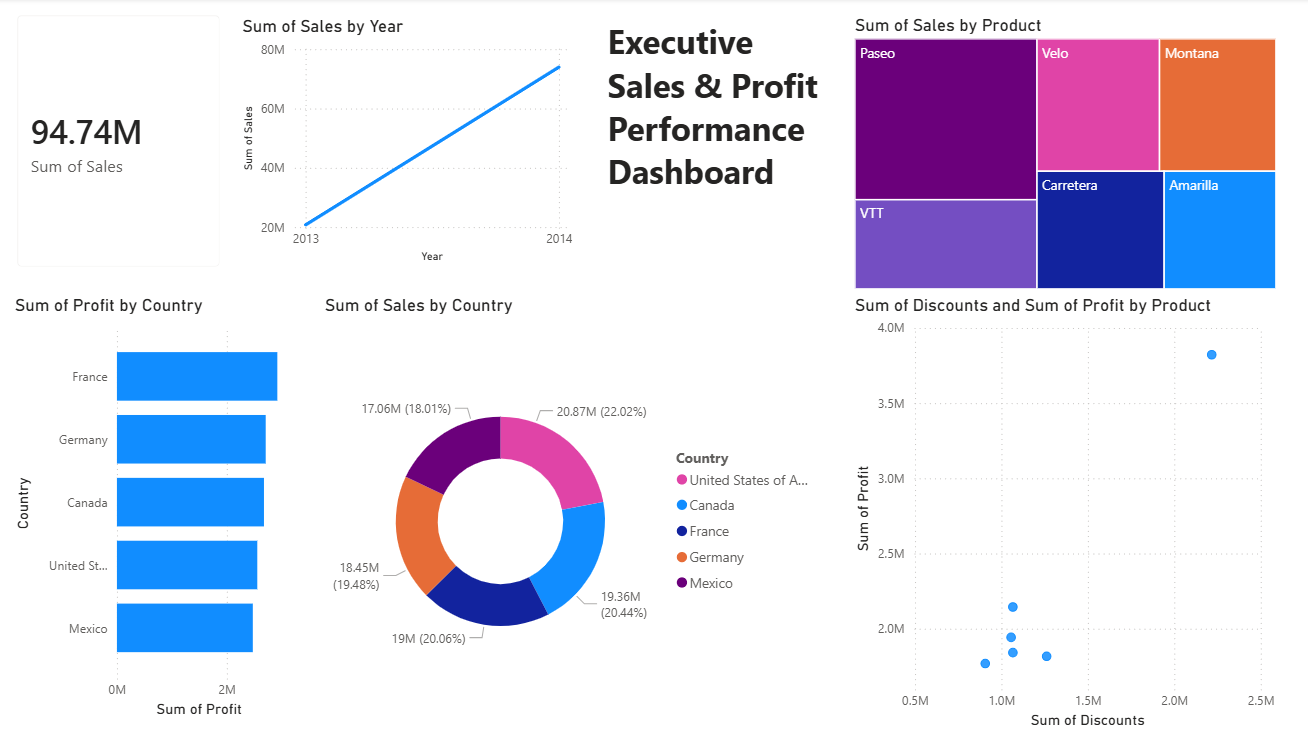

The page's visual inventory and layout, read from the dashboard file:
{"tool":"powerbi","page":{"name":"Page 1","canvas":[1280,720],"ordinal":0},"visuals":[{"type":"cardVisual","fields":{"Data":["Sum(financials.Sales)"]},"box":[0,0,232.3,280],"z":0},{"type":"barChart","fields":{"Category":["financials.Country"],"Y":["Sum(financials.Profit)"]},"box":[9.8,289.8,280,419.4],"z":1},{"type":"lineChart","fields":{"Category":["financials.Date.Variation.Date Hierarchy.Year","financials.Date.Variation.Date Hierarchy.Quarter","financials.Date.Variation.Date Hierarchy.Month","financials.Date.Variation.Date Hierarchy.Day"],"Y":["Sum(financials.Sales)"]},"box":[232.3,17.1,332.6,247],"z":3},{"type":"donutChart","fields":{"Category":["financials.Country"],"Y":["Sum(financials.Sales)"]},"box":[313,289.8,501.4,425.5],"z":4},{"type":"treemap","fields":{"Group":["financials.Product"],"Values":["Sum(financials.Sales)"]},"box":[831.5,15.9,421.9,273.9],"z":5},{"type":"scatterChart","fields":{"X":["Sum(financials.Discounts)"],"Y":["Sum(financials.Profit)"],"Category":["financials.Product"]},"box":[832,290,421,430],"z":6},{"type":"textbox","box":[589.4,15.9,225,201.8],"z":7}]}

Visuals, with their boxes in screenshot pixels (x1, y1, x2, y2), scaled from the page's 1280x720 canvas onto the 1308x734 screenshot:
cardVisual - Sum(financials.Sales): {"x1": 0, "y1": 0, "x2": 237, "y2": 285}
barChart - financials.Country x Sum(financials.Profit): {"x1": 10, "y1": 295, "x2": 296, "y2": 723}
lineChart - financials.Date.Variation.Date Hierarchy.Year x financials.Date.Variation.Date Hierarchy.Quarter: {"x1": 237, "y1": 17, "x2": 577, "y2": 269}
donutChart - financials.Country x Sum(financials.Sales): {"x1": 320, "y1": 295, "x2": 832, "y2": 729}
treemap - financials.Product x Sum(financials.Sales): {"x1": 850, "y1": 16, "x2": 1281, "y2": 295}
scatterChart - Sum(financials.Discounts) x Sum(financials.Profit): {"x1": 850, "y1": 296, "x2": 1280, "y2": 733}
textbox: {"x1": 602, "y1": 16, "x2": 832, "y2": 222}
